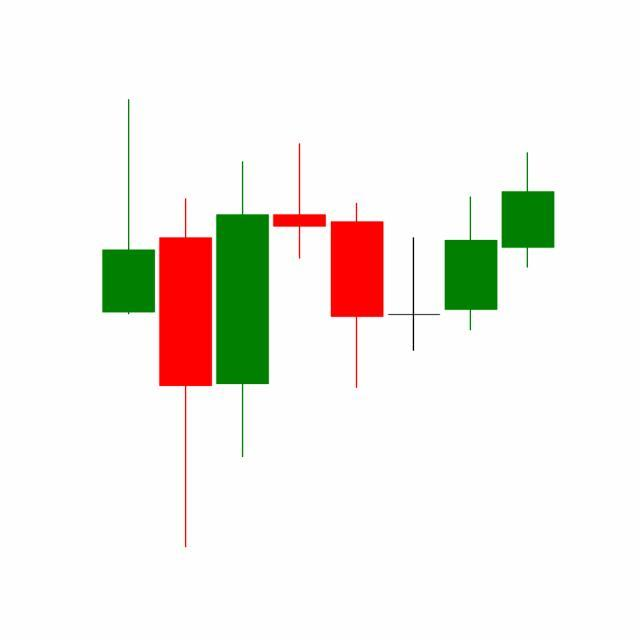Hikkake Pattern: (214, 140, 501, 462)
